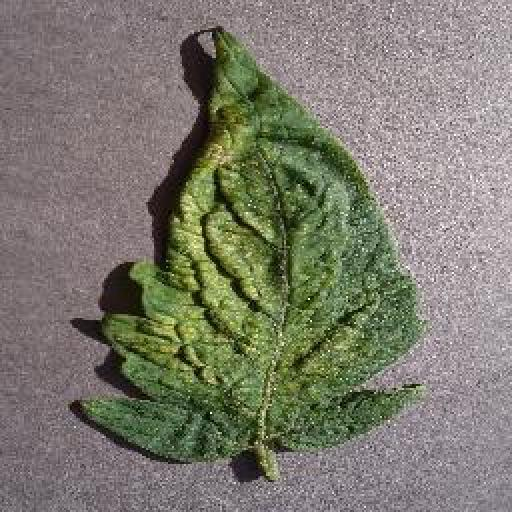disease_tomato: (74, 24, 418, 464)
